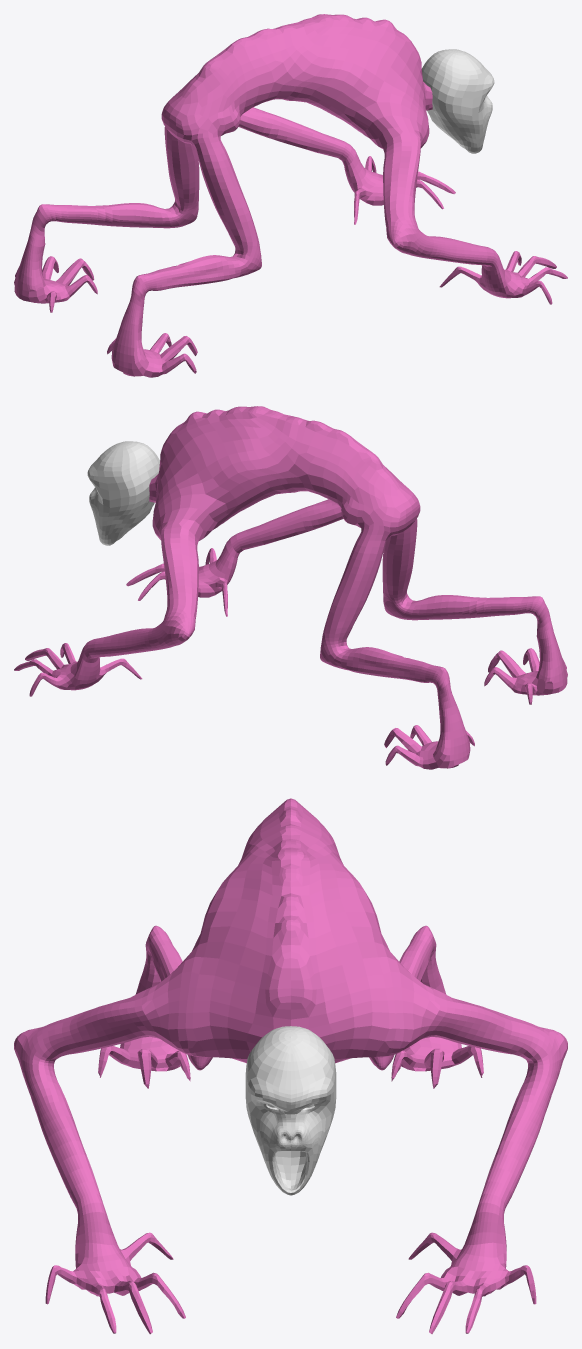
The model's file is lacreatura (2).fbx.
3 views of the same model, one above another, from view 1: azimuth 30°, elevation 25°; view 2: azimuth 150°, elevation 25°; view 3: azimuth 270°, elevation 25° (orthographic). The views are drawn at different scales.
Parts seen in each view (by area): view 1: Plane, Plane.001; view 2: Plane, Plane.001; view 3: Plane, Plane.001.
Part boxes in pixels (box(x1,y1,x2,y2)): Plane: box(14, 14, 567, 377); Plane.001: box(422, 49, 494, 153); Plane: box(14, 406, 567, 769); Plane.001: box(87, 441, 159, 545); Plane: box(14, 798, 567, 1334); Plane.001: box(245, 1026, 336, 1195).
Bounding box in the file's own units: 3635 × 2082 × 2859.
